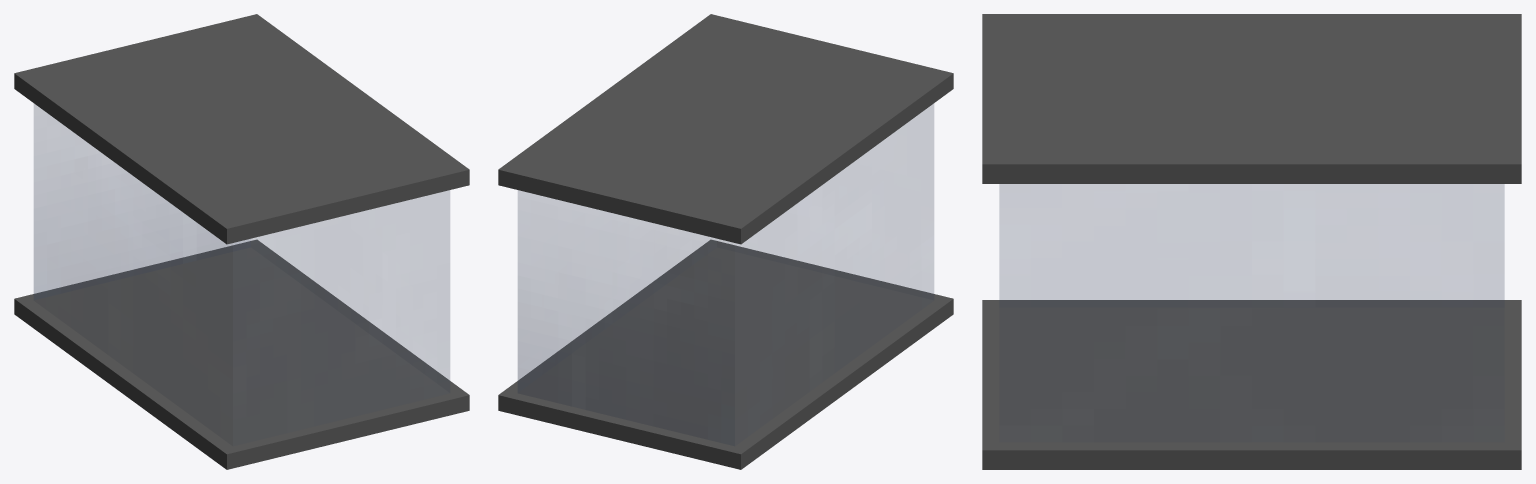
Rendered from FishTank.fbx.
The picture shows the model from 3 angles, left to right: view 1: azimuth 30°, elevation 25°; view 2: azimuth 150°, elevation 25°; view 3: azimuth 270°, elevation 25°; orthographic projection. The views are drawn at different scales.
Parts seen in each view (by area): view 1: FishTank; view 2: FishTank; view 3: FishTank.
Boxes of the visible parts, <box> form: FishTank: <box>14,14,469,469</box>; FishTank: <box>498,14,953,469</box>; FishTank: <box>982,14,1521,469</box>.
Bounding box in the file's own units: 1.63 × 1.54 × 2.47.
2 materials, 1 textured.
